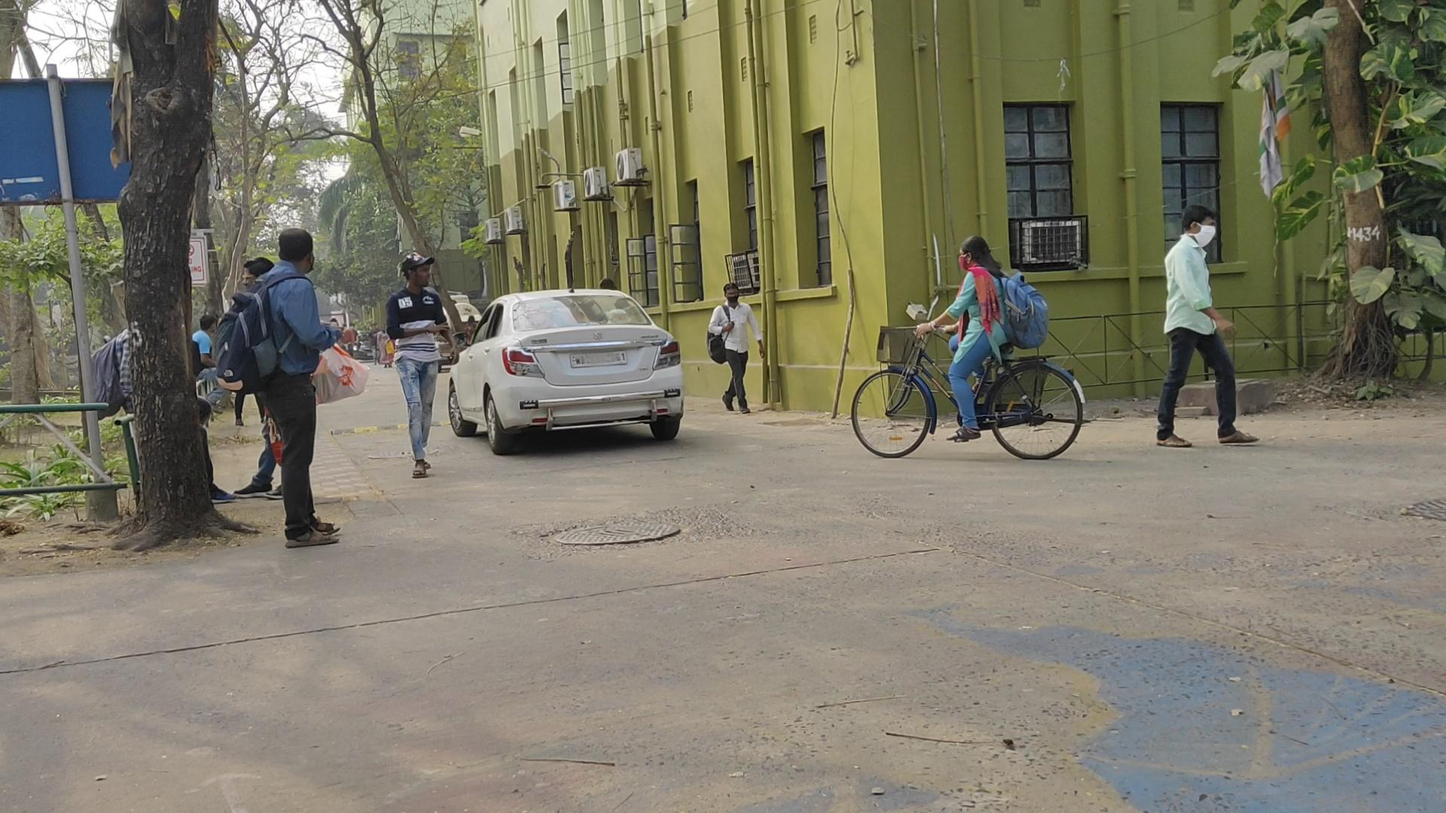bike: (850, 236, 1091, 461)
car: (448, 288, 684, 456)
